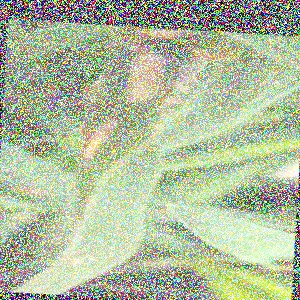Brown_Spot: (111, 44, 174, 111), (74, 111, 124, 175)
